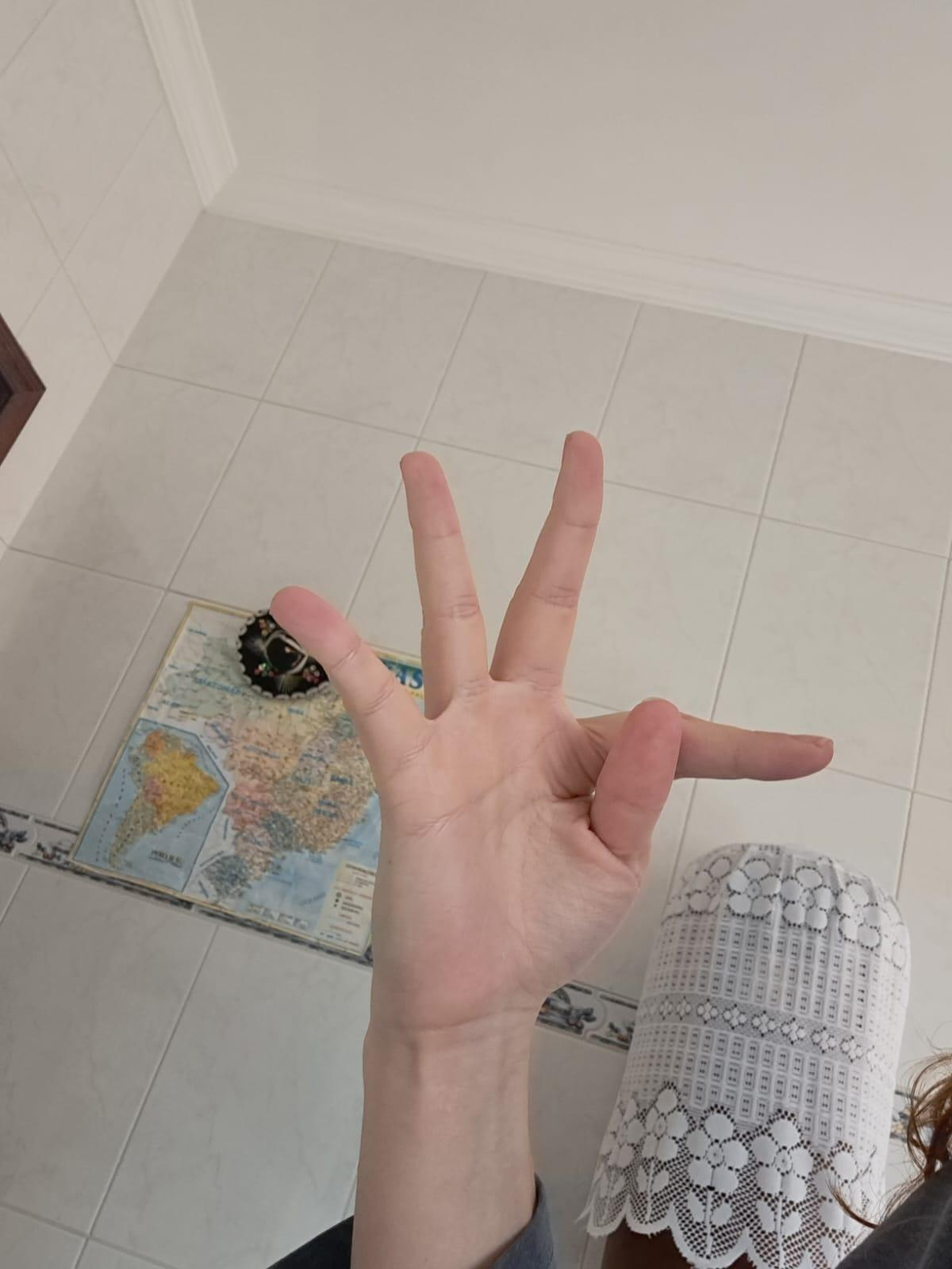T: (258, 406, 853, 1015)
